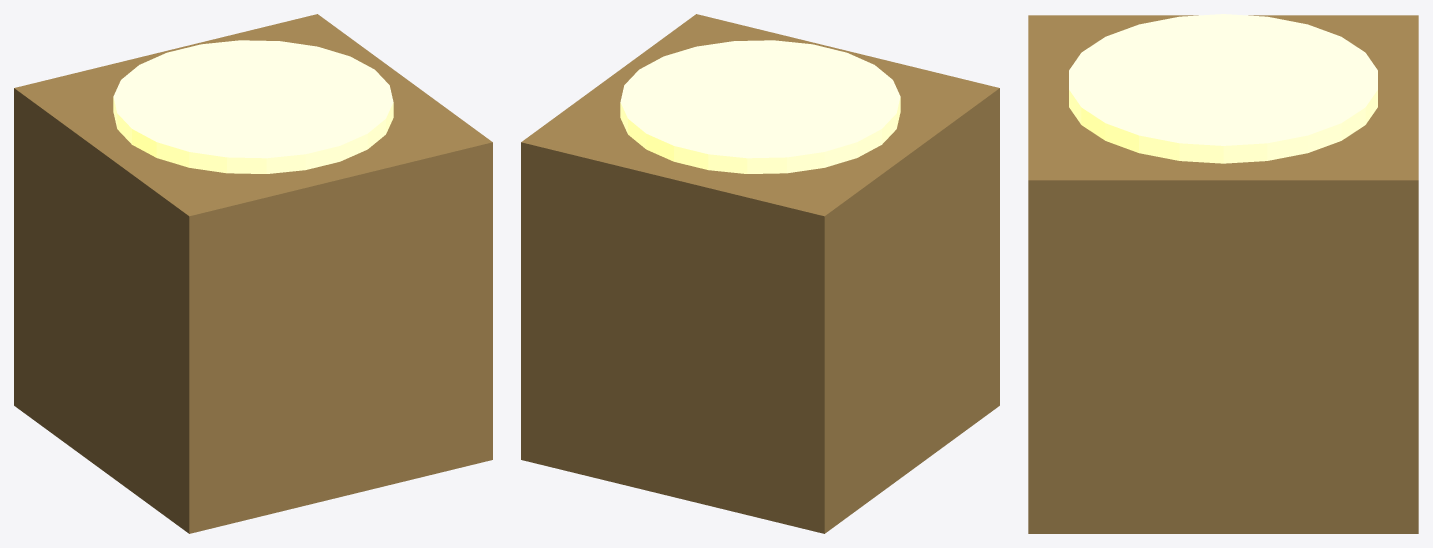
Rendered from TimedPulse_Full.glb.
3 renders of one model, left to right at view 1: azimuth 30°, elevation 25°; view 2: azimuth 150°, elevation 25°; view 3: azimuth 270°, elevation 25°, orthographic. The views are drawn at different scales.
Visible parts, largest first — view 1: TimedPulse_Full_body, glow_disc.005; view 2: TimedPulse_Full_body, glow_disc.005; view 3: TimedPulse_Full_body, glow_disc.005.
Part boxes in pixels (<box>): TimedPulse_Full_body: <box>14,14,492,533</box>; glow_disc.005: <box>113,40,393,173</box>; TimedPulse_Full_body: <box>521,14,999,533</box>; glow_disc.005: <box>620,40,900,173</box>; TimedPulse_Full_body: <box>1028,15,1418,533</box>; glow_disc.005: <box>1069,14,1377,163</box>.
Size of the model in its own units: 1 by 1.05 by 1.
